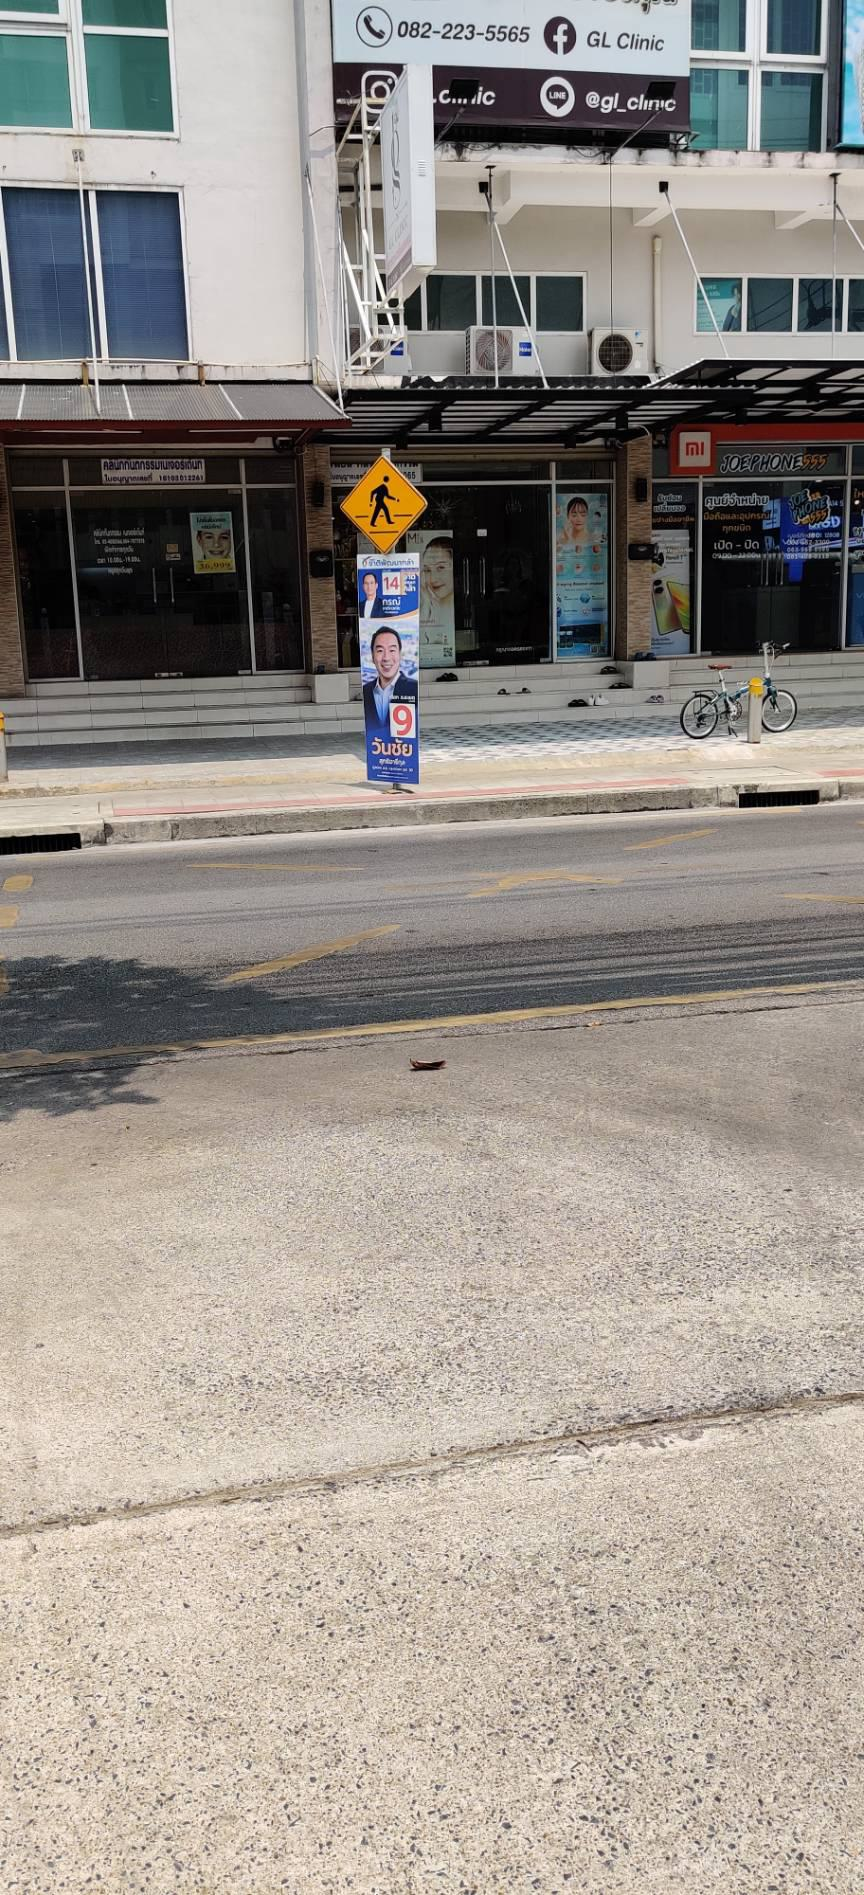Banner: (346, 552, 433, 795)
